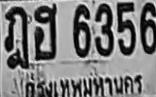3: (94, 3, 113, 56)
5: (116, 1, 135, 55)
6: (72, 3, 90, 57), (139, 1, 156, 54)
A14: (4, 5, 30, 68)
A44: (32, 3, 56, 60)
BKK: (20, 72, 145, 97)
